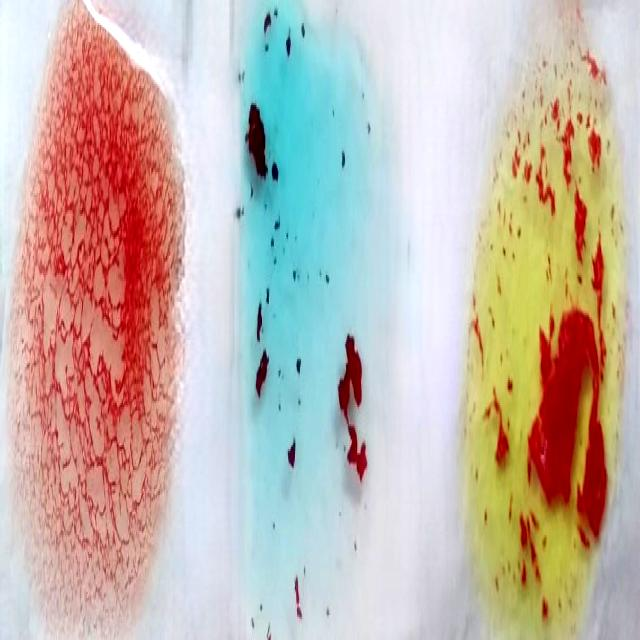A: (226, 12, 386, 640)
B: (480, 51, 617, 628)
D: (28, 19, 177, 627)
